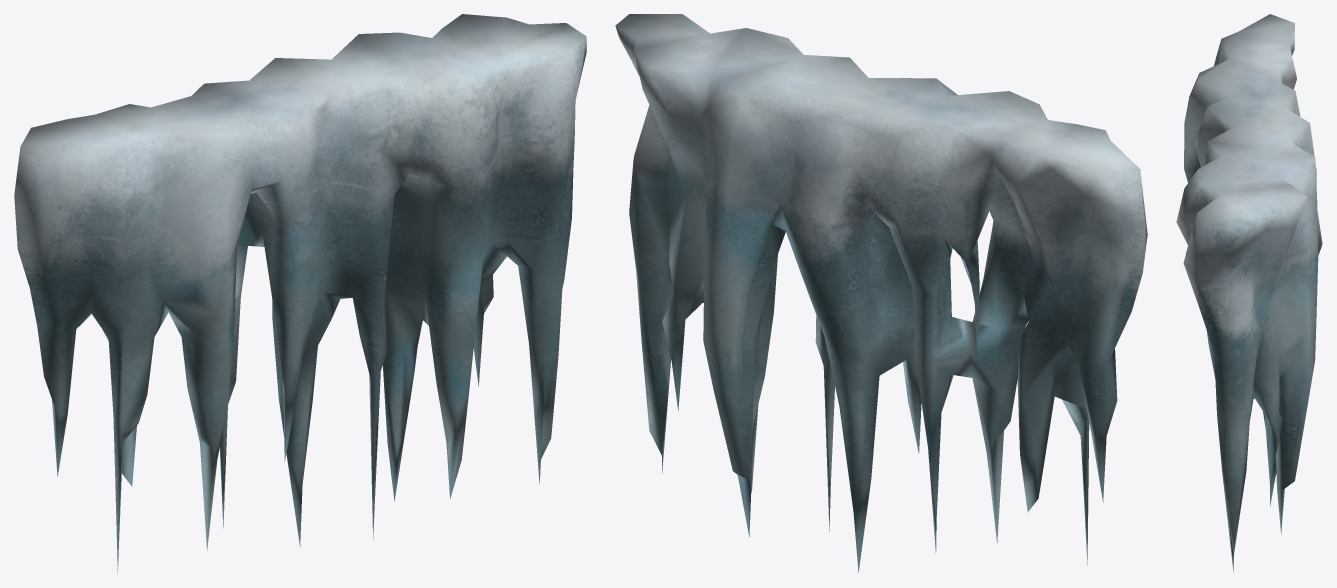
Rendered from icicle_01.glb.
The picture shows the model from 3 angles, left to right: view 1: azimuth 30°, elevation 25°; view 2: azimuth 150°, elevation 25°; view 3: azimuth 270°, elevation 25°; orthographic projection. The views are drawn at different scales.
Visible parts, largest first — view 1: Low_0; view 2: Low_0; view 3: Low_0.
Boxes of the visible parts, x1,y1,x2,y2 form: Low_0: [14, 14, 586, 573]; Low_0: [615, 14, 1147, 572]; Low_0: [1176, 14, 1322, 572].
Bounding box in the file's own units: 2.14 × 1.77 × 0.6079.
1 material, 1 textured.
